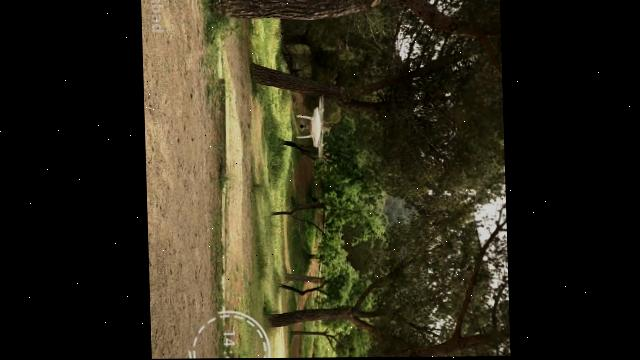drone: (293, 93, 327, 160)
